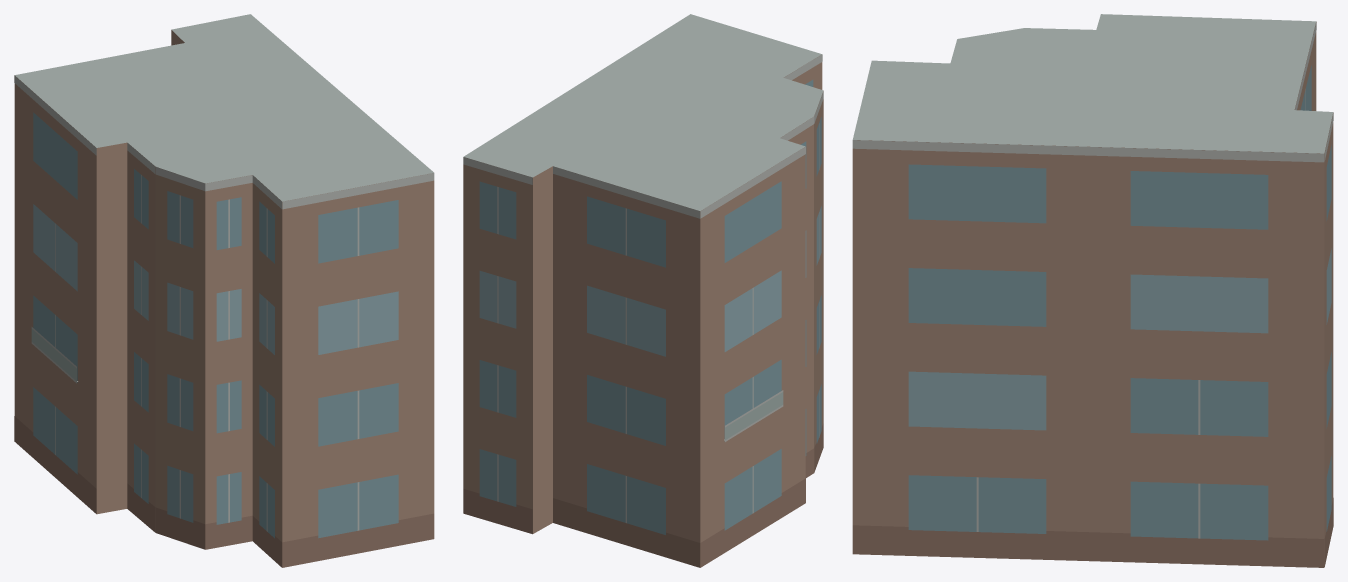
The model's file is survey-upis-32595452.glb.
3 views of the same model, side by side, from view 1: azimuth 30°, elevation 25°; view 2: azimuth 150°, elevation 25°; view 3: azimuth 270°, elevation 25° (orthographic). The views are drawn at different scales.
Parts seen in each view (by area): view 1: survey-upis-32595452.tmp; view 2: survey-upis-32595452.tmp; view 3: survey-upis-32595452.tmp.
Boxes of the visible parts, box(x1,y1,x2,y2) form: survey-upis-32595452.tmp: box(14, 14, 434, 567); survey-upis-32595452.tmp: box(463, 14, 823, 567); survey-upis-32595452.tmp: box(852, 14, 1333, 567).
Bounding box in the file's own units: 8.25 × 11.4 × 12.
